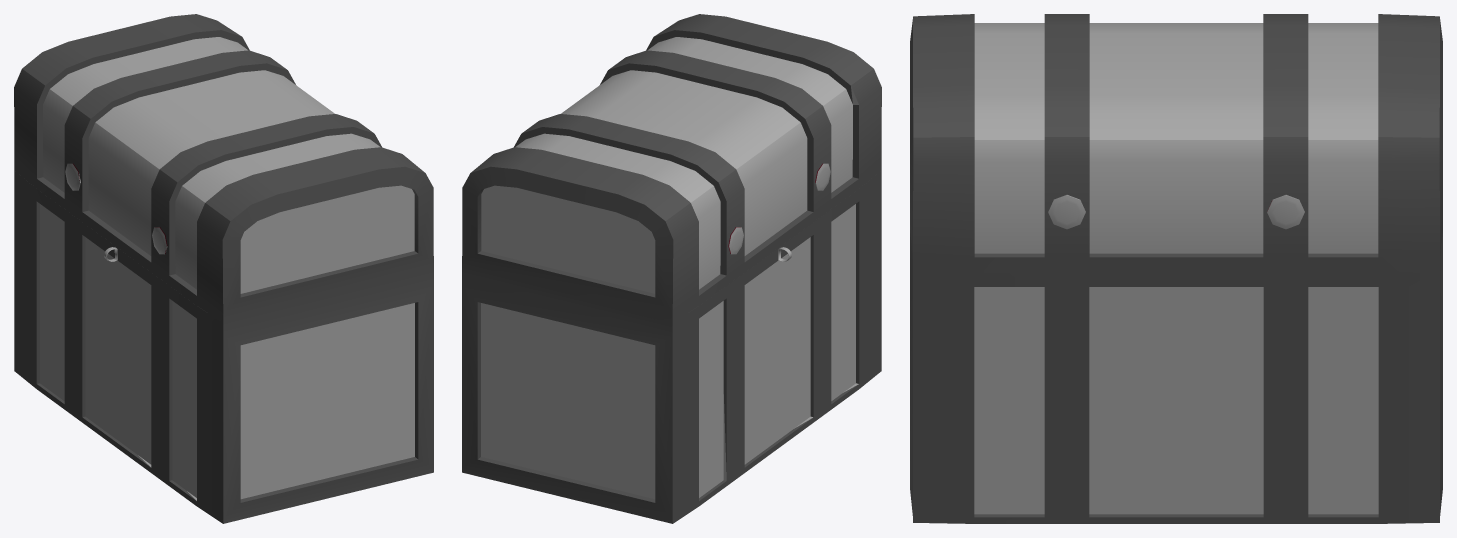
The model's file is chest1.glb.
The picture shows the model from 3 angles, left to right: view 1: azimuth 30°, elevation 25°; view 2: azimuth 150°, elevation 25°; view 3: azimuth 270°, elevation 25°; orthographic projection. The views are drawn at different scales.
Visible parts, largest first — view 1: Chest-Head-Details-3_Material.001_0, Chest-Body-3_Material.001_0; view 2: Chest-Head-Details-3_Material.001_0, Chest-Body-3_Material.001_0; view 3: Chest-Head-Details-3_Material.001_0, Chest-Body-3_Material.001_0.
Part boxes in pixels (bbox=[...]): Chest-Head-Details-3_Material.001_0: bbox=[14, 14, 433, 325]; Chest-Body-3_Material.001_0: bbox=[14, 171, 433, 523]; Chest-Head-Details-3_Material.001_0: bbox=[462, 14, 881, 325]; Chest-Body-3_Material.001_0: bbox=[462, 171, 881, 523]; Chest-Head-Details-3_Material.001_0: bbox=[910, 14, 1442, 272]; Chest-Body-3_Material.001_0: bbox=[910, 230, 1442, 523].
Size of the model in its own units: 1.14 by 1.53 by 1.83.
Materials: 5 (1 with a texture image).
